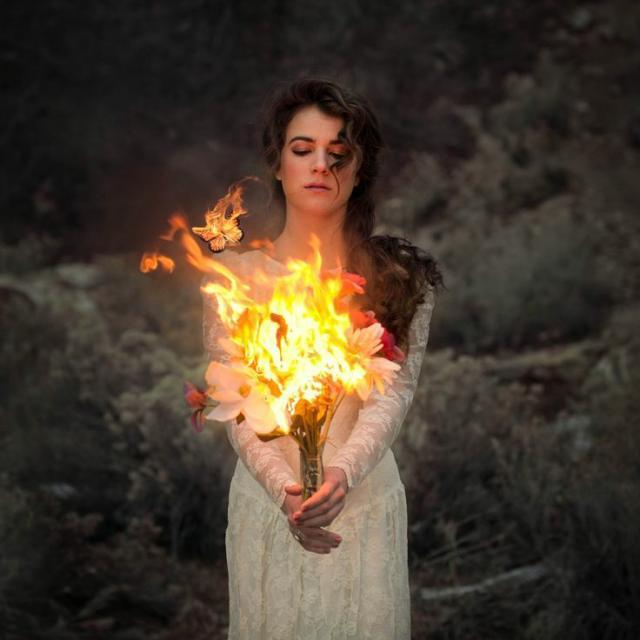Fire: (198, 190, 412, 490)
